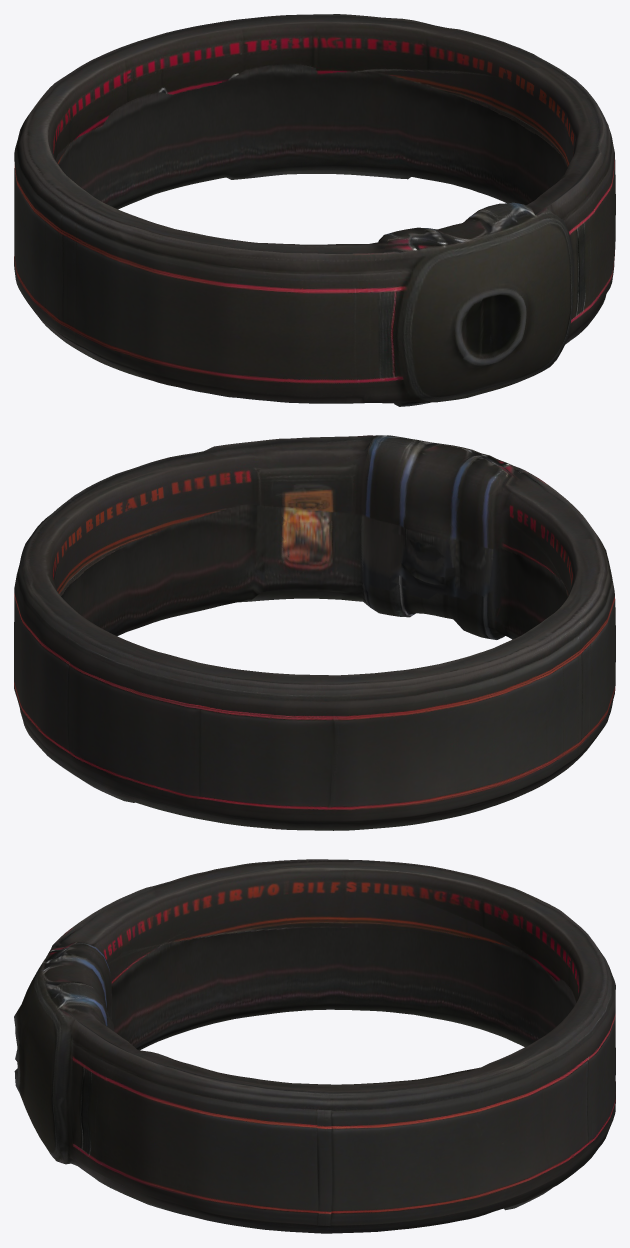
3 views of the same model, one above another, from view 1: azimuth 30°, elevation 25°; view 2: azimuth 150°, elevation 25°; view 3: azimuth 270°, elevation 25° (orthographic). The views are drawn at different scales.
Bounding box in the file's own units: 1.91 × 0.6 × 1.99.
Materials: 1 (1 with a texture image).
